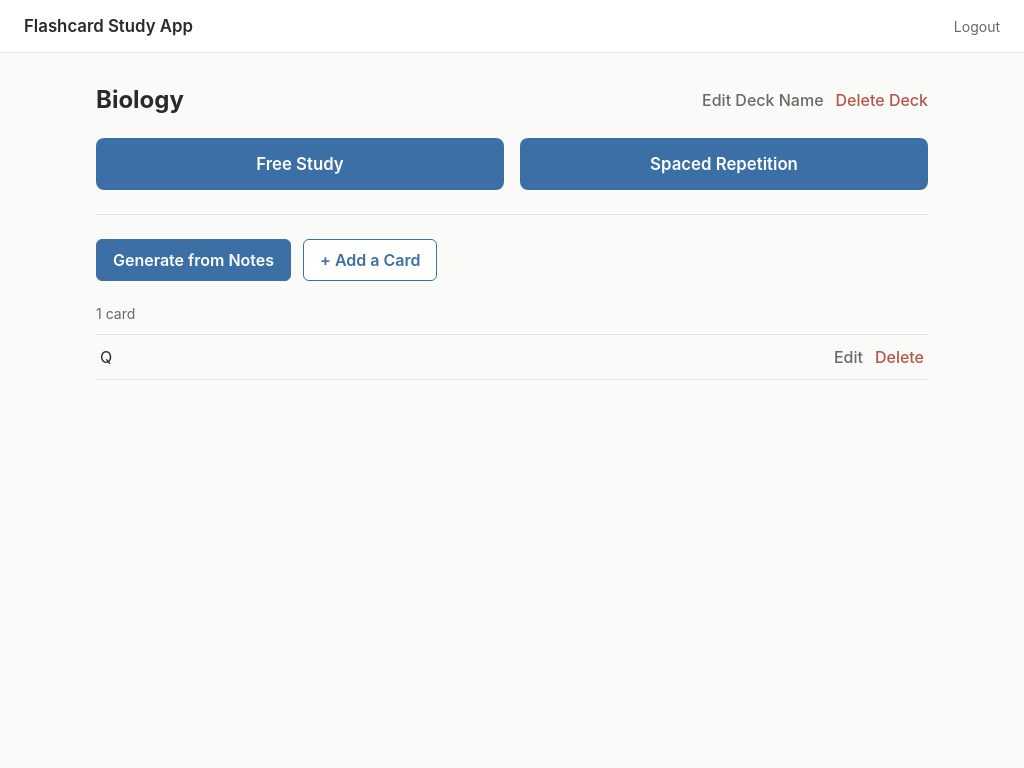
Test: DeckDetailPage › links to the generate page next to Add a card
Expected: the button "+ Add a Card" is shown, [303,239,438,281]
Click the link "Generate from Notes": click(194, 260) [96,239,291,281]
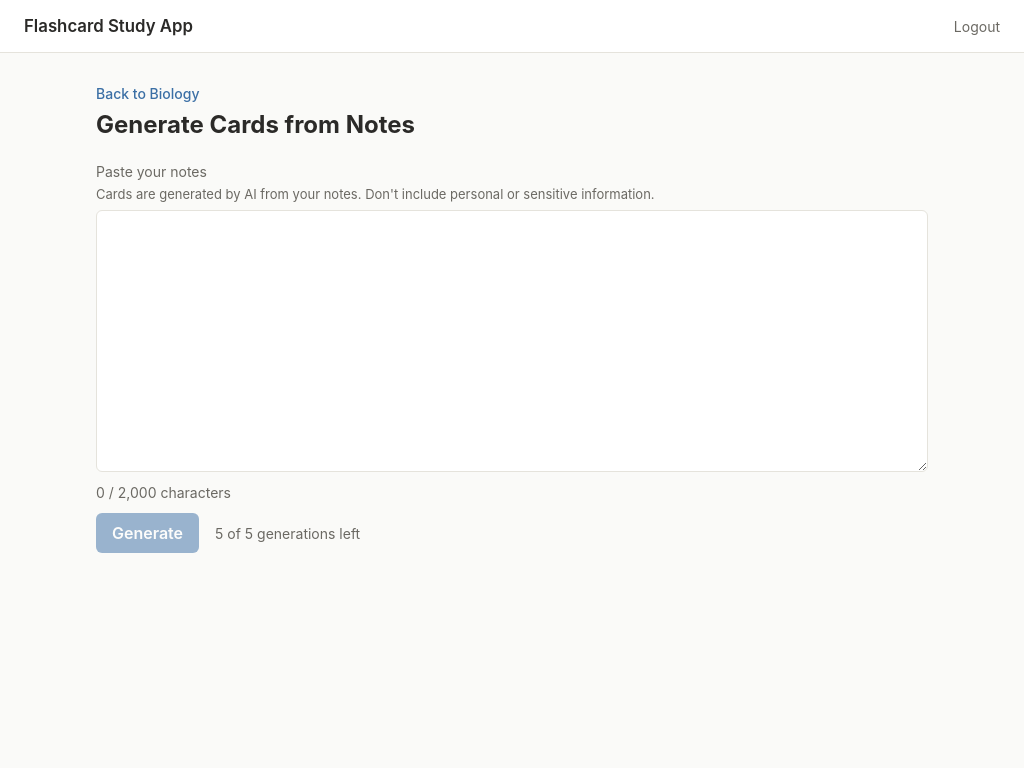
Now the heading "Generate Cards from Notes" is shown, box [96,110,415,139]
